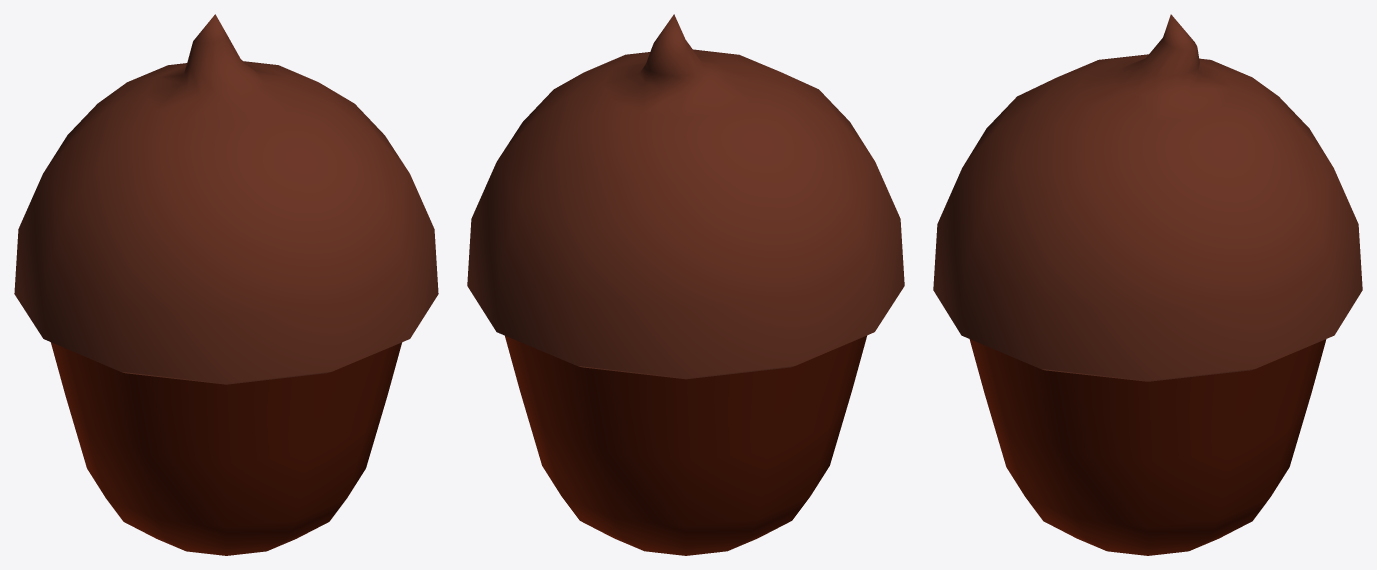
File: Gland.fbx
3 renders of one model, left to right at view 1: azimuth 30°, elevation 25°; view 2: azimuth 150°, elevation 25°; view 3: azimuth 270°, elevation 25°, orthographic. The views are drawn at different scales.
Parts seen in each view (by area): view 1: Gland; view 2: Gland; view 3: Gland.
Part boxes in pixels (left/top/right/bottom): Gland: left=14, top=14, right=438, bottom=555; Gland: left=467, top=14, right=904, bottom=555; Gland: left=933, top=14, right=1362, bottom=555.
Bounding box in the file's own units: 41.3 × 56.97 × 41.3.
